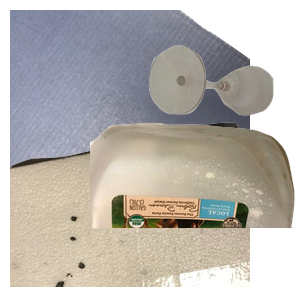cardboard: (10, 10, 250, 190)
glass: (147, 43, 300, 151)
plastic: (90, 120, 300, 300)
trash: (10, 120, 250, 300)
